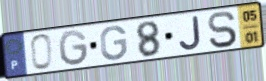0: (28, 32, 56, 73)
8: (133, 19, 162, 58)
G: (57, 29, 90, 68), (99, 24, 129, 62)
J: (177, 15, 203, 52)
S: (206, 10, 239, 50)
